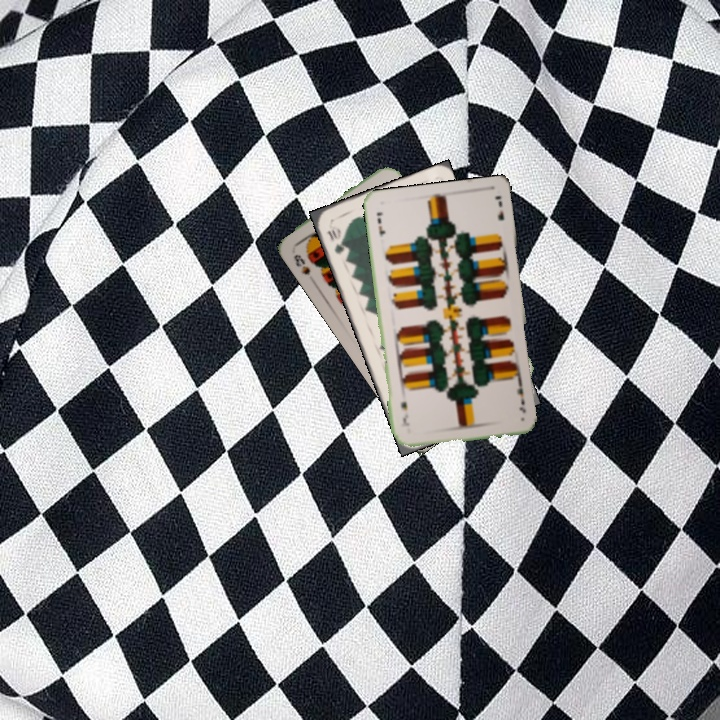E7: (513, 377, 528, 416), (373, 208, 388, 239)
G10: (324, 221, 347, 257)
S8: (289, 250, 313, 277)
